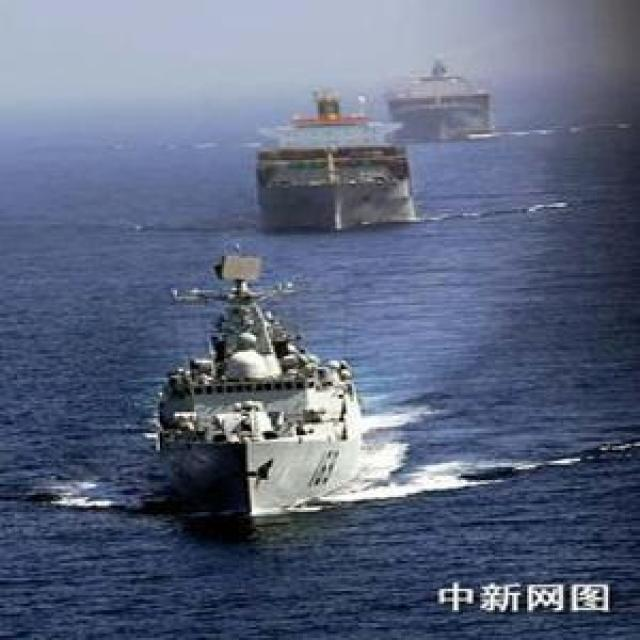navalvessels: (148, 271, 374, 509), (250, 95, 436, 227), (378, 48, 493, 145)
